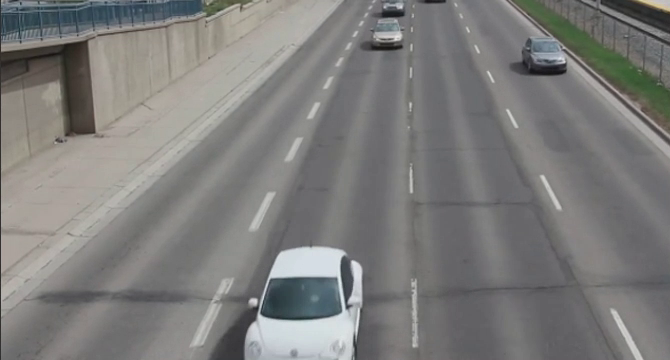car: (238, 239, 378, 360), (519, 34, 572, 77), (367, 10, 404, 50)
